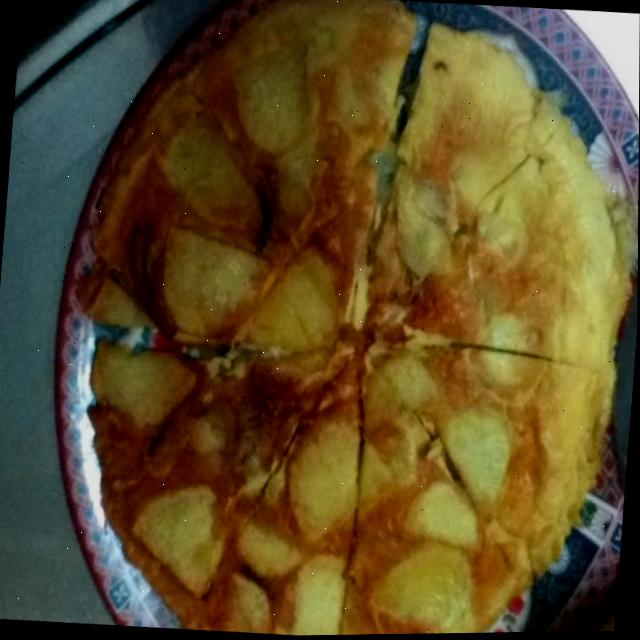面包点心: (73, 1, 640, 639)
